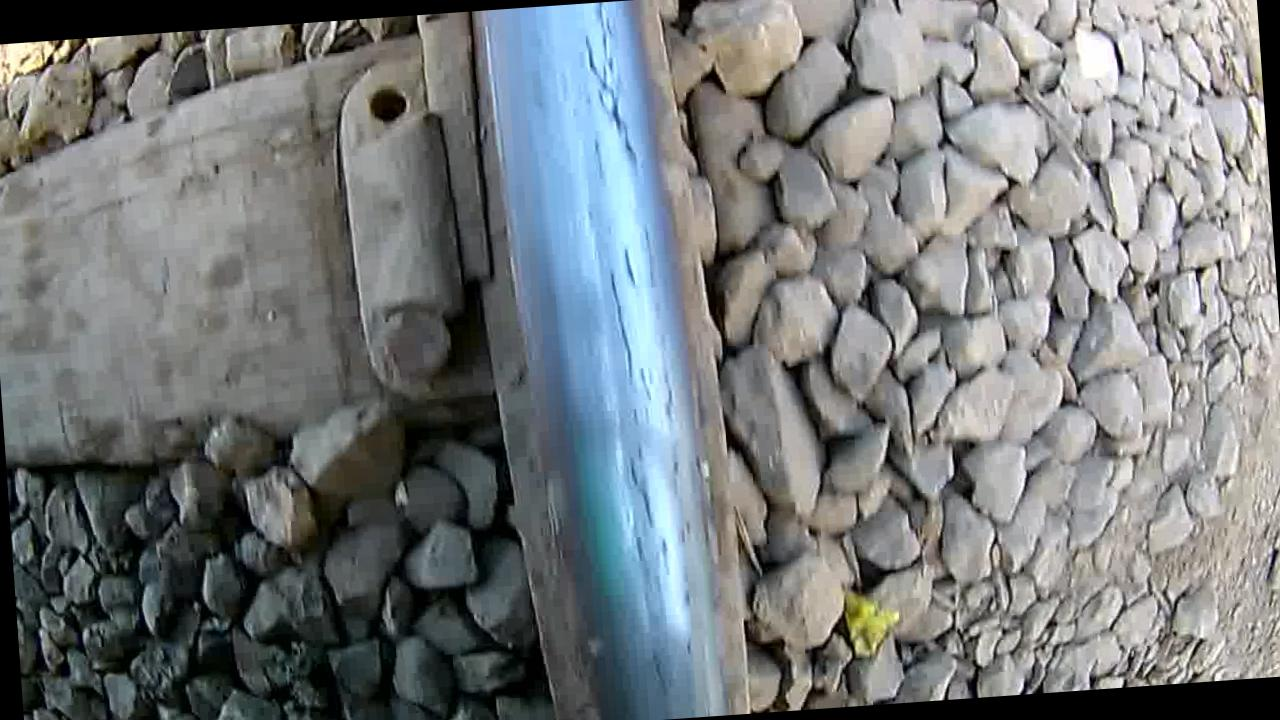normal_track: (555, 0, 696, 720)
